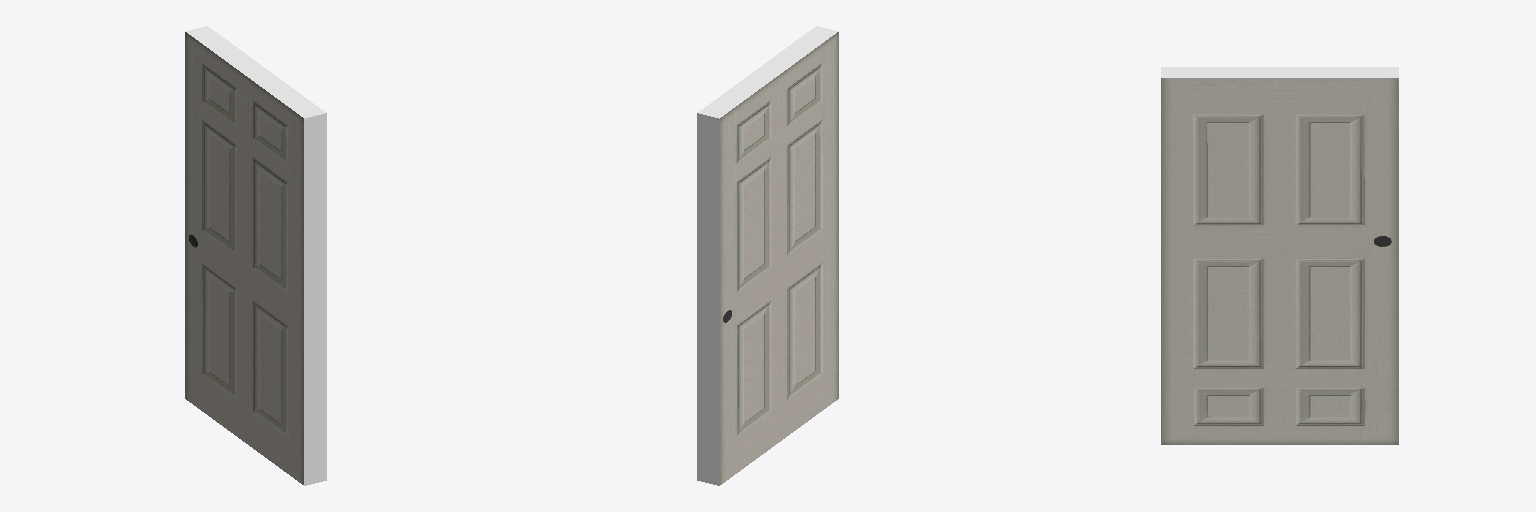
3 renders of one model, left to right at view 1: azimuth 30°, elevation 25°; view 2: azimuth 150°, elevation 25°; view 3: azimuth 270°, elevation 25°, orthographic.
Visible parts, largest first — view 1: Cube; view 2: Cube; view 3: Cube.
Part boxes in pixels (bbox=[...]): Cube: bbox=[185, 26, 326, 485]; Cube: bbox=[697, 26, 838, 485]; Cube: bbox=[1161, 67, 1398, 444].
Bounding box in the file's own units: 0.0502 × 0.7849 × 0.4615.
Materials: 1 (1 with a texture image).